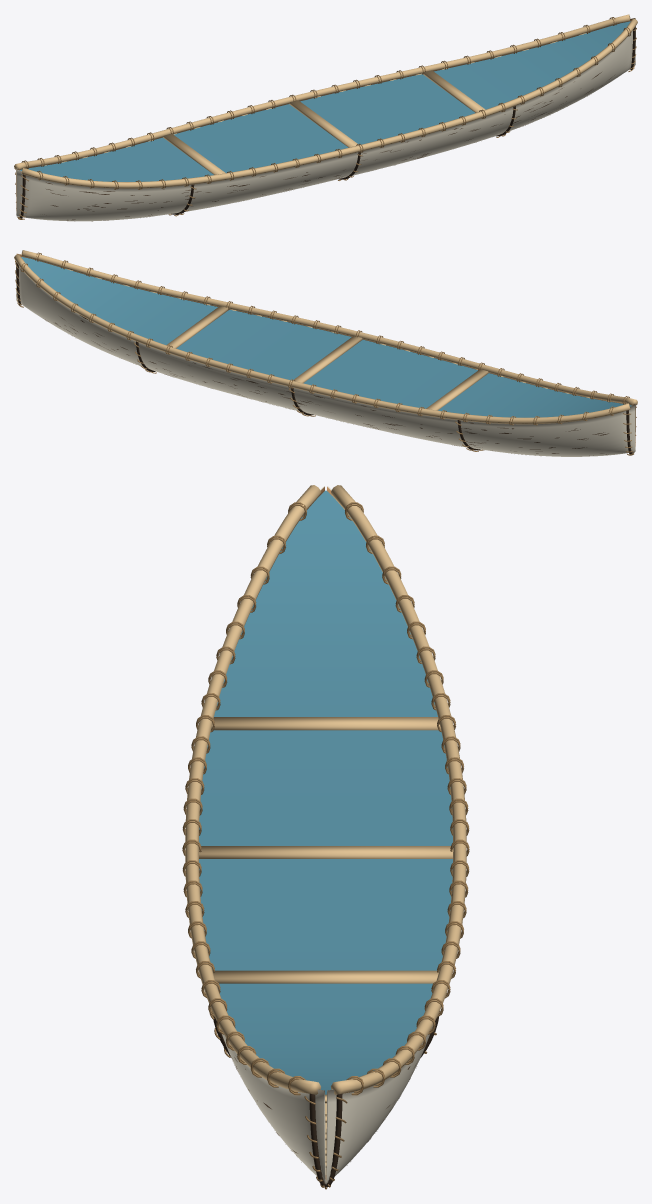
File: canoe_birch.glb
The picture shows the model from 3 angles, top to bottom: view 1: azimuth 30°, elevation 25°; view 2: azimuth 150°, elevation 25°; view 3: azimuth 270°, elevation 25°; orthographic projection. The views are drawn at different scales.
Parts seen in each view (by area): view 1: water_mask, part_skin, part_frame, part_lashing, part_gum; view 2: water_mask, part_skin, part_frame, part_lashing, part_gum; view 3: water_mask, part_frame, part_skin, part_lashing, part_gum.
Part boxes in pixels (bbox=[...]): water_mask: bbox=[20, 21, 630, 181]; part_skin: bbox=[16, 18, 635, 221]; part_frame: bbox=[14, 14, 637, 188]; part_lashing: bbox=[15, 17, 636, 219]; part_gum: bbox=[19, 26, 635, 218]; water_mask: bbox=[21, 257, 632, 417]; part_skin: bbox=[16, 253, 635, 456]; part_frame: bbox=[14, 250, 637, 424]; part_lashing: bbox=[15, 252, 636, 455]; part_gum: bbox=[16, 262, 632, 454]; water_mask: bbox=[199, 490, 452, 1094]; part_frame: bbox=[185, 485, 466, 1174]; part_skin: bbox=[219, 486, 433, 1184]; part_lashing: bbox=[182, 502, 469, 1189]; part_gum: bbox=[213, 1011, 439, 1187].
Size of the model in its own units: 4.8 by 0.6205 by 0.9648.
